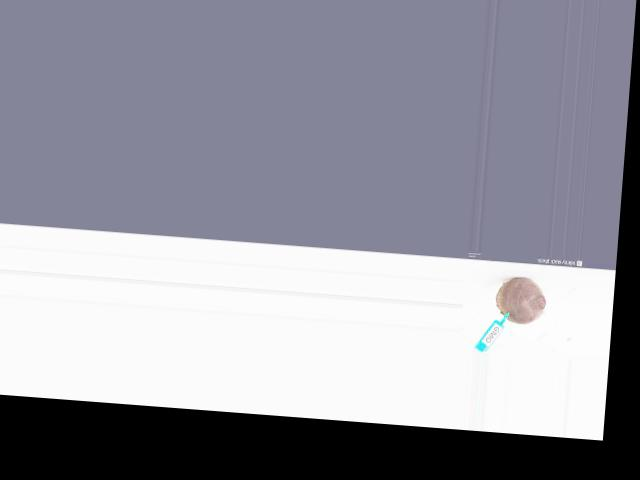beet: (494, 275, 547, 325)
